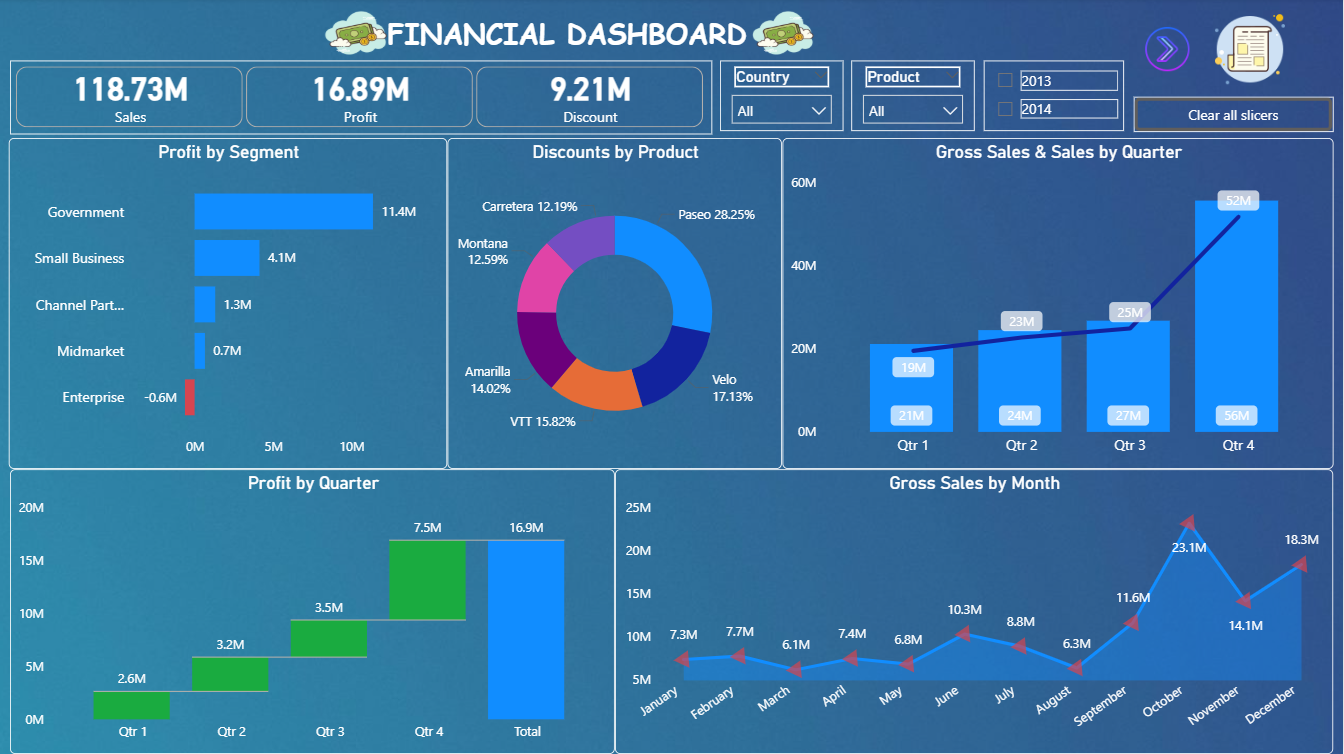

What the dashboard file says about the page in this screenshot:
{"tool":"powerbi","page":{"name":"Dashboard 1","canvas":[1280,720],"ordinal":4},"visuals":[{"type":"clusteredBarChart","title":"Profit by Segment","fields":{"Category":["financials.Segment"],"Y":["Sum(financials.Profit)"]},"box":[8.8,133.8,417.5,315],"z":0},{"type":"waterfallChart","title":"Profit by Quarter","fields":{"Category":["financials.Date.Variation.Date Hierarchy.Year","financials.Date.Variation.Date Hierarchy.Quarter","financials.Date.Variation.Date Hierarchy.Month"],"Y":["Sum(financials.Profit)"]},"box":[10,448.8,576.2,271.2],"z":1000},{"type":"donutChart","title":"Discounts by Product","fields":{"Y":["Sum(financials.Discounts)"],"Category":["financials.Product"]},"box":[426.2,133.8,318.8,315],"z":2000},{"type":"lineClusteredColumnComboChart","title":"Gross Sales & Sales by Quarter","fields":{"Category":["financials.Date.Variation.Date Hierarchy.Quarter"],"Y":["Sum(financials.Gross Sales)"],"Y2":["Sum(financials. Sales)"]},"box":[745,133.8,525,315],"z":3000},{"type":"areaChart","title":"Gross Sales by Month","fields":{"Category":["financials.Date.Variation.Date Hierarchy.Month"],"Y":["Sum(financials.Gross Sales)"]},"box":[586.2,448.8,683.8,271.2],"z":4000},{"type":"textbox","box":[10,10,1061.2,50],"z":5000},{"type":"cardVisual","fields":{"Data":["Sum(financials. Sales)","Sum(financials.Profit)","Sum(financials.Discounts)"]},"box":[10,60,668.8,70],"z":6000},{"type":"slicer","fields":{"Values":["financials.Country"]},"box":[686.2,60,117.5,67.5],"z":7000},{"type":"slicer","fields":{"Values":["financials.Product"]},"box":[811.2,60,117.5,67.5],"z":8000},{"type":"slicer","fields":{"Values":["financials.Year"]},"box":[937.5,60,133.8,67.5],"z":9000},{"type":"actionButton","box":[1080,93.8,190,33.8],"z":10000},{"type":"image","box":[705.9,0,79.1,68.3],"z":11000},{"type":"image","box":[298.4,0,80.3,68.3],"z":12000},{"type":"image","box":[1142.7,1.4,95.2,95.2],"z":13000},{"type":"image","box":[1080.6,17.3,62,62],"z":14000}]}

Visuals, with their boxes in screenshot pixels (x1, y1, x2, y2), scaled from the page's 1280x720 canvas onto the 1344x754 screenshot:
"Profit by Segment" clusteredBarChart: pyautogui.locateOnScreen(9, 140, 448, 470)
"Profit by Quarter" waterfallChart: pyautogui.locateOnScreen(10, 470, 616, 753)
"Discounts by Product" donutChart: pyautogui.locateOnScreen(448, 140, 782, 470)
"Gross Sales & Sales by Quarter" lineClusteredColumnComboChart: pyautogui.locateOnScreen(782, 140, 1334, 470)
"Gross Sales by Month" areaChart: pyautogui.locateOnScreen(616, 470, 1334, 753)
textbox: pyautogui.locateOnScreen(10, 10, 1125, 63)
cardVisual - Sum(financials. Sales) x Sum(financials.Profit): pyautogui.locateOnScreen(10, 63, 713, 136)
slicer - financials.Country: pyautogui.locateOnScreen(721, 63, 844, 134)
slicer - financials.Product: pyautogui.locateOnScreen(852, 63, 975, 134)
slicer - financials.Year: pyautogui.locateOnScreen(984, 63, 1125, 134)
actionButton: pyautogui.locateOnScreen(1134, 98, 1334, 134)
image: pyautogui.locateOnScreen(741, 0, 824, 72)
image: pyautogui.locateOnScreen(313, 0, 398, 72)
image: pyautogui.locateOnScreen(1200, 1, 1300, 101)
image: pyautogui.locateOnScreen(1135, 18, 1200, 83)
